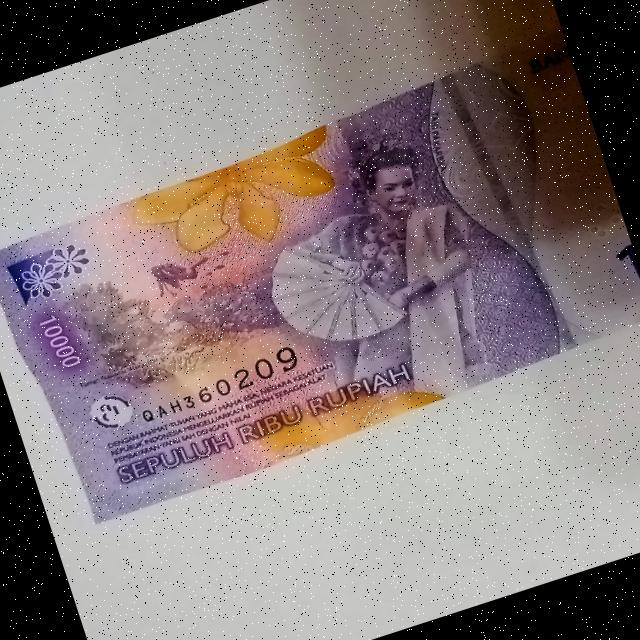10K: (0, 21, 640, 545)
